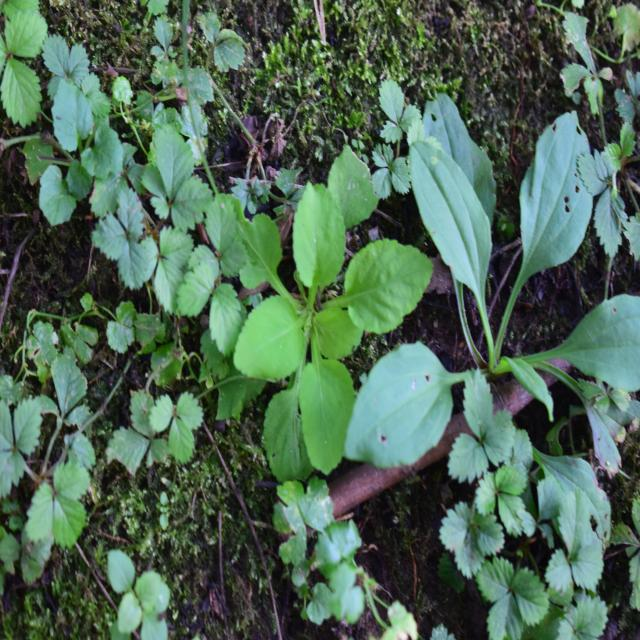Viola: (228, 170, 399, 490)
